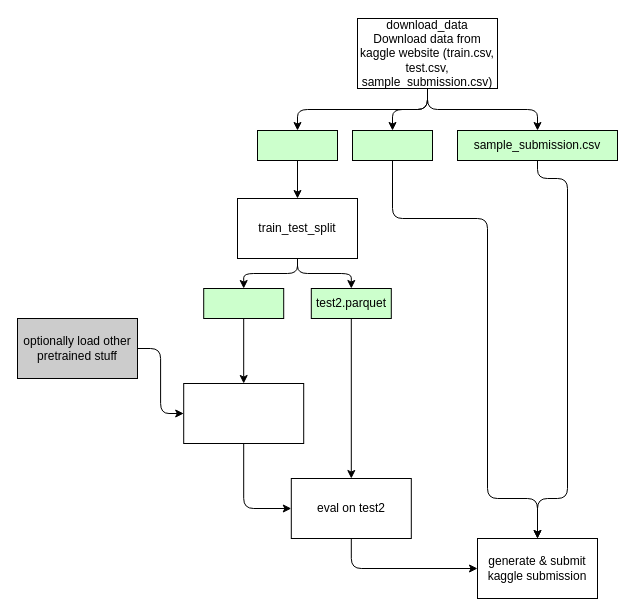
This 635x616 diagram has some shape labels left out. Here are the shapes that lost their labels. From the top down, the centre of each, then its label:
(297,145): train.csv
(392,145): test.csv
(243,303): train2.parquet
(243,413): train (optionally do cross-validation)
